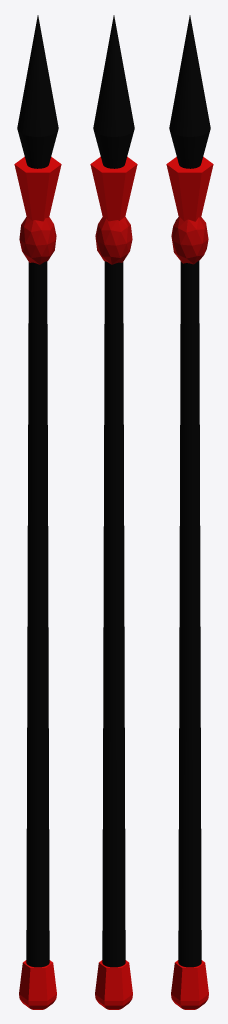
The model's file is Blood Spear.fbx.
3 renders of one model, left to right at view 1: azimuth 30°, elevation 25°; view 2: azimuth 150°, elevation 25°; view 3: azimuth 330°, elevation 25°, orthographic.
Visible parts, largest first — view 1: Spear, Blade Base 1, Spear End, Blade Base 2; view 2: Spear, Blade Base 1, Spear End, Blade Base 2; view 3: Spear, Blade Base 1, Spear End, Blade Base 2.
Boxes of the visible parts, box(x1,y1,x2,y2) form: Spear: box(17, 15, 58, 967); Blade Base 1: box(14, 156, 61, 221); Spear End: box(19, 960, 56, 1009); Blade Base 2: box(19, 217, 56, 264); Spear: box(93, 15, 134, 967); Blade Base 1: box(90, 156, 137, 221); Spear End: box(95, 960, 132, 1009); Blade Base 2: box(95, 217, 132, 264); Spear: box(169, 15, 210, 967); Blade Base 1: box(166, 156, 213, 221); Spear End: box(171, 960, 208, 1009); Blade Base 2: box(171, 216, 208, 264).
Bounding box in the file's own units: 7.07 × 187 × 8.05.
